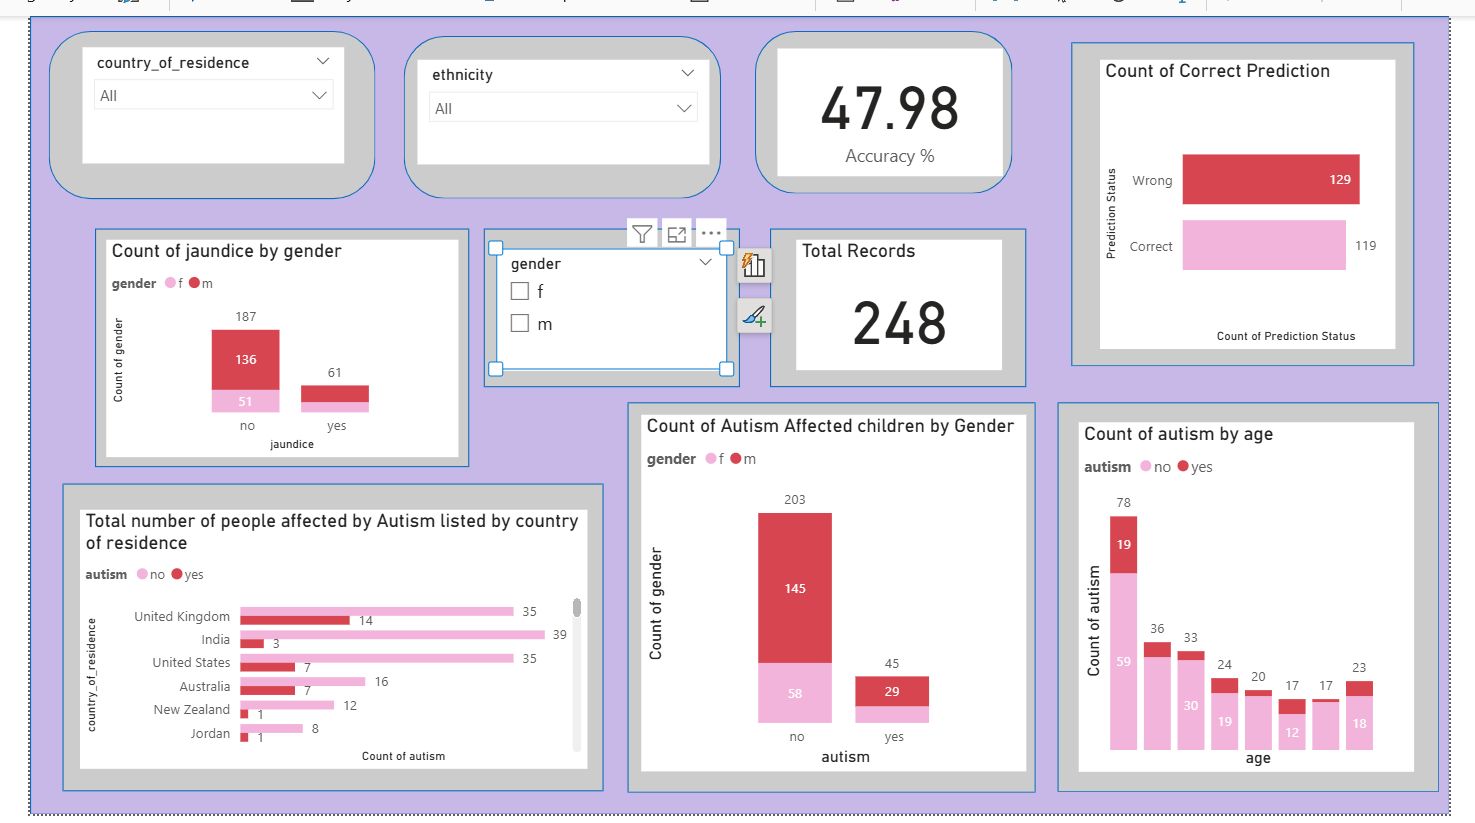

This screenshot's page, from the dashboard's own definition file:
{"tool":"powerbi","page":{"name":"Autism_Dashboard","canvas":[1280,720],"ordinal":0},"visuals":[{"type":"shape","box":[0,0,1280.3,720.2],"z":0},{"type":"shape","box":[17.1,13.5,294.7,151.6],"z":1000},{"type":"shape","box":[337.5,18.3,286.1,146.7],"z":2000},{"type":"shape","box":[667.7,192,231.1,143.1],"z":3000},{"type":"shape","box":[654.2,13.5,232.3,146.7],"z":4000},{"type":"shape","box":[939.1,23.2,309.4,292.3],"z":5000},{"type":"shape","box":[539.3,348.5,368.1,352.2],"z":6000},{"type":"shape","box":[925.9,347.9,344.3,351.5],"z":7000},{"type":"slicer","fields":{"Values":["cs_autism.country_of_residence"]},"box":[47.7,28.1,236,105.2],"z":8000},{"type":"slicer","fields":{"Values":["cs_autism.ethnicity"]},"box":[349.7,39.1,262.9,94.2],"z":9000},{"type":"card","title":"Total Records","fields":{"Values":["CountNonNull(cs_autism.Column1)"]},"box":[1057.8,447.6,155.3,117.4],"z":10000},{"type":"clusteredBarChart","title":"Count of Correct Prediction ","fields":{"Category":["cs_autism.Prediction Status"],"Y":["CountNonNull(cs_autism.Prediction Status)"]},"box":[964.8,39.1,266.6,260.5],"z":11000},{"type":"card","fields":{"Values":["cs_autism.Accuracy %"]},"box":[673.8,29.3,203,114.9],"z":12000},{"type":"columnChart","title":"Count of Autism Affected children by Gender","fields":{"Category":["cs_autism.autism"],"Y":["CountNonNull(cs_autism.gender)"],"Series":["cs_autism.gender"]},"box":[551.5,359.5,347.3,321.6],"z":13000},{"type":"columnChart","title":"Count of autism by age ","fields":{"Category":["cs_autism.age"],"Y":["CountNonNull(cs_autism.autism)"],"Series":["cs_autism.autism"]},"box":[945.9,366,302.6,315.3],"z":14000},{"type":"shape","box":[29.3,421.9,487.9,277.6],"z":15000},{"type":"card","title":"Total Records","fields":{"Values":["CountNonNull(cs_autism.Column1)"]},"box":[690.9,201.8,186,117.2],"z":16000},{"type":"clusteredBarChart","title":"Total number of people affected by Autism listed by country of residence","fields":{"Category":["cs_autism.country_of_residence"],"Y":["CountNonNull(cs_autism.autism)"],"Series":["cs_autism.autism"]},"box":[45.2,445.1,457.3,233.6],"z":17000},{"type":"shape","box":[58.7,192,337.5,215.2],"z":18000},{"type":"columnChart","title":"Count of jaundice by gender","fields":{"Category":["cs_autism.jaundice"],"Series":["cs_autism.gender"],"Y":["CountNonNull(cs_autism.gender)"]},"box":[68.5,201.8,317.9,195.7],"z":19000},{"type":"shape","box":[409.1,191.6,231.1,143.1],"z":20000},{"type":"slicer","fields":{"Values":["cs_autism.gender"]},"box":[420.7,209.1,207.9,110.1],"z":20001}]}

Visuals, with their boxes in screenshot pixels (x1, y1, x2, y2), scaled from the page's 1280x720 canvas onto the 1475x823 screenshot:
shape: bbox=(0, 0, 1474, 822)
shape: bbox=(20, 15, 359, 189)
shape: bbox=(389, 21, 719, 189)
shape: bbox=(769, 219, 1036, 383)
shape: bbox=(754, 15, 1022, 183)
shape: bbox=(1082, 27, 1439, 361)
shape: bbox=(621, 398, 1046, 801)
shape: bbox=(1067, 398, 1464, 799)
slicer - cs_autism.country_of_residence: bbox=(55, 32, 327, 152)
slicer - cs_autism.ethnicity: bbox=(403, 45, 706, 152)
"Total Records" card: bbox=(1219, 512, 1398, 646)
"Count of Correct Prediction " clusteredBarChart: bbox=(1112, 45, 1419, 342)
card - cs_autism.Accuracy %: bbox=(776, 33, 1010, 165)
"Count of Autism Affected children by Gender" columnChart: bbox=(636, 411, 1036, 779)
"Count of autism by age " columnChart: bbox=(1090, 418, 1439, 779)
shape: bbox=(34, 482, 596, 800)
"Total Records" card: bbox=(796, 231, 1010, 365)
"Total number of people affected by Autism listed by country of residence" clusteredBarChart: bbox=(52, 509, 579, 776)
shape: bbox=(68, 219, 457, 465)
"Count of jaundice by gender" columnChart: bbox=(79, 231, 445, 454)
shape: bbox=(471, 219, 738, 383)
slicer - cs_autism.gender: bbox=(485, 239, 724, 365)
